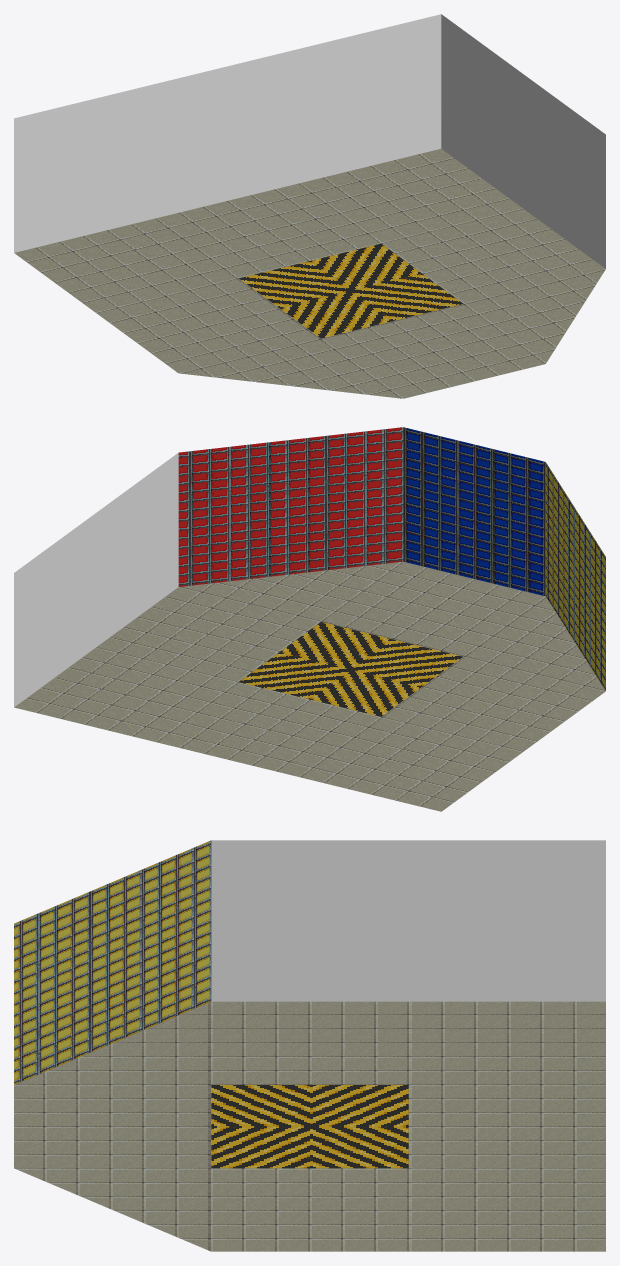
Rendered from training04.glb.
The picture shows the model from 3 angles, top to bottom: view 1: azimuth 30°, elevation 25°; view 2: azimuth 150°, elevation 25°; view 3: azimuth 270°, elevation 25°; orthographic projection. The views are drawn at different scales.
Visible parts, largest first — view 1: Plane; view 2: Plane; view 3: Plane.
Boxes of the visible parts, x1=… form: Plane: x1=14, y1=14, x2=605, y2=398; Plane: x1=14, y1=427, x2=605, y2=811; Plane: x1=14, y1=840, x2=605, y2=1251.
Size of what is drawn, in the model's own units: 10 by 3.01 by 10.
Materials: 6 (5 with a texture image).
